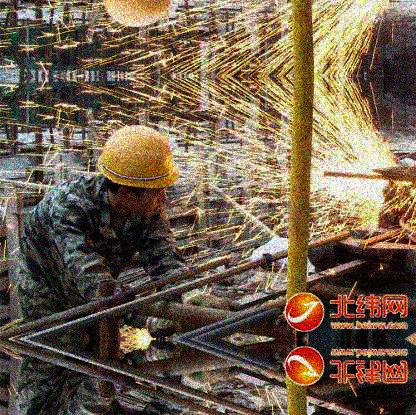helmet: (96, 126, 182, 216)
